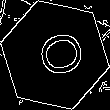O_W: (25, 27, 85, 83)
